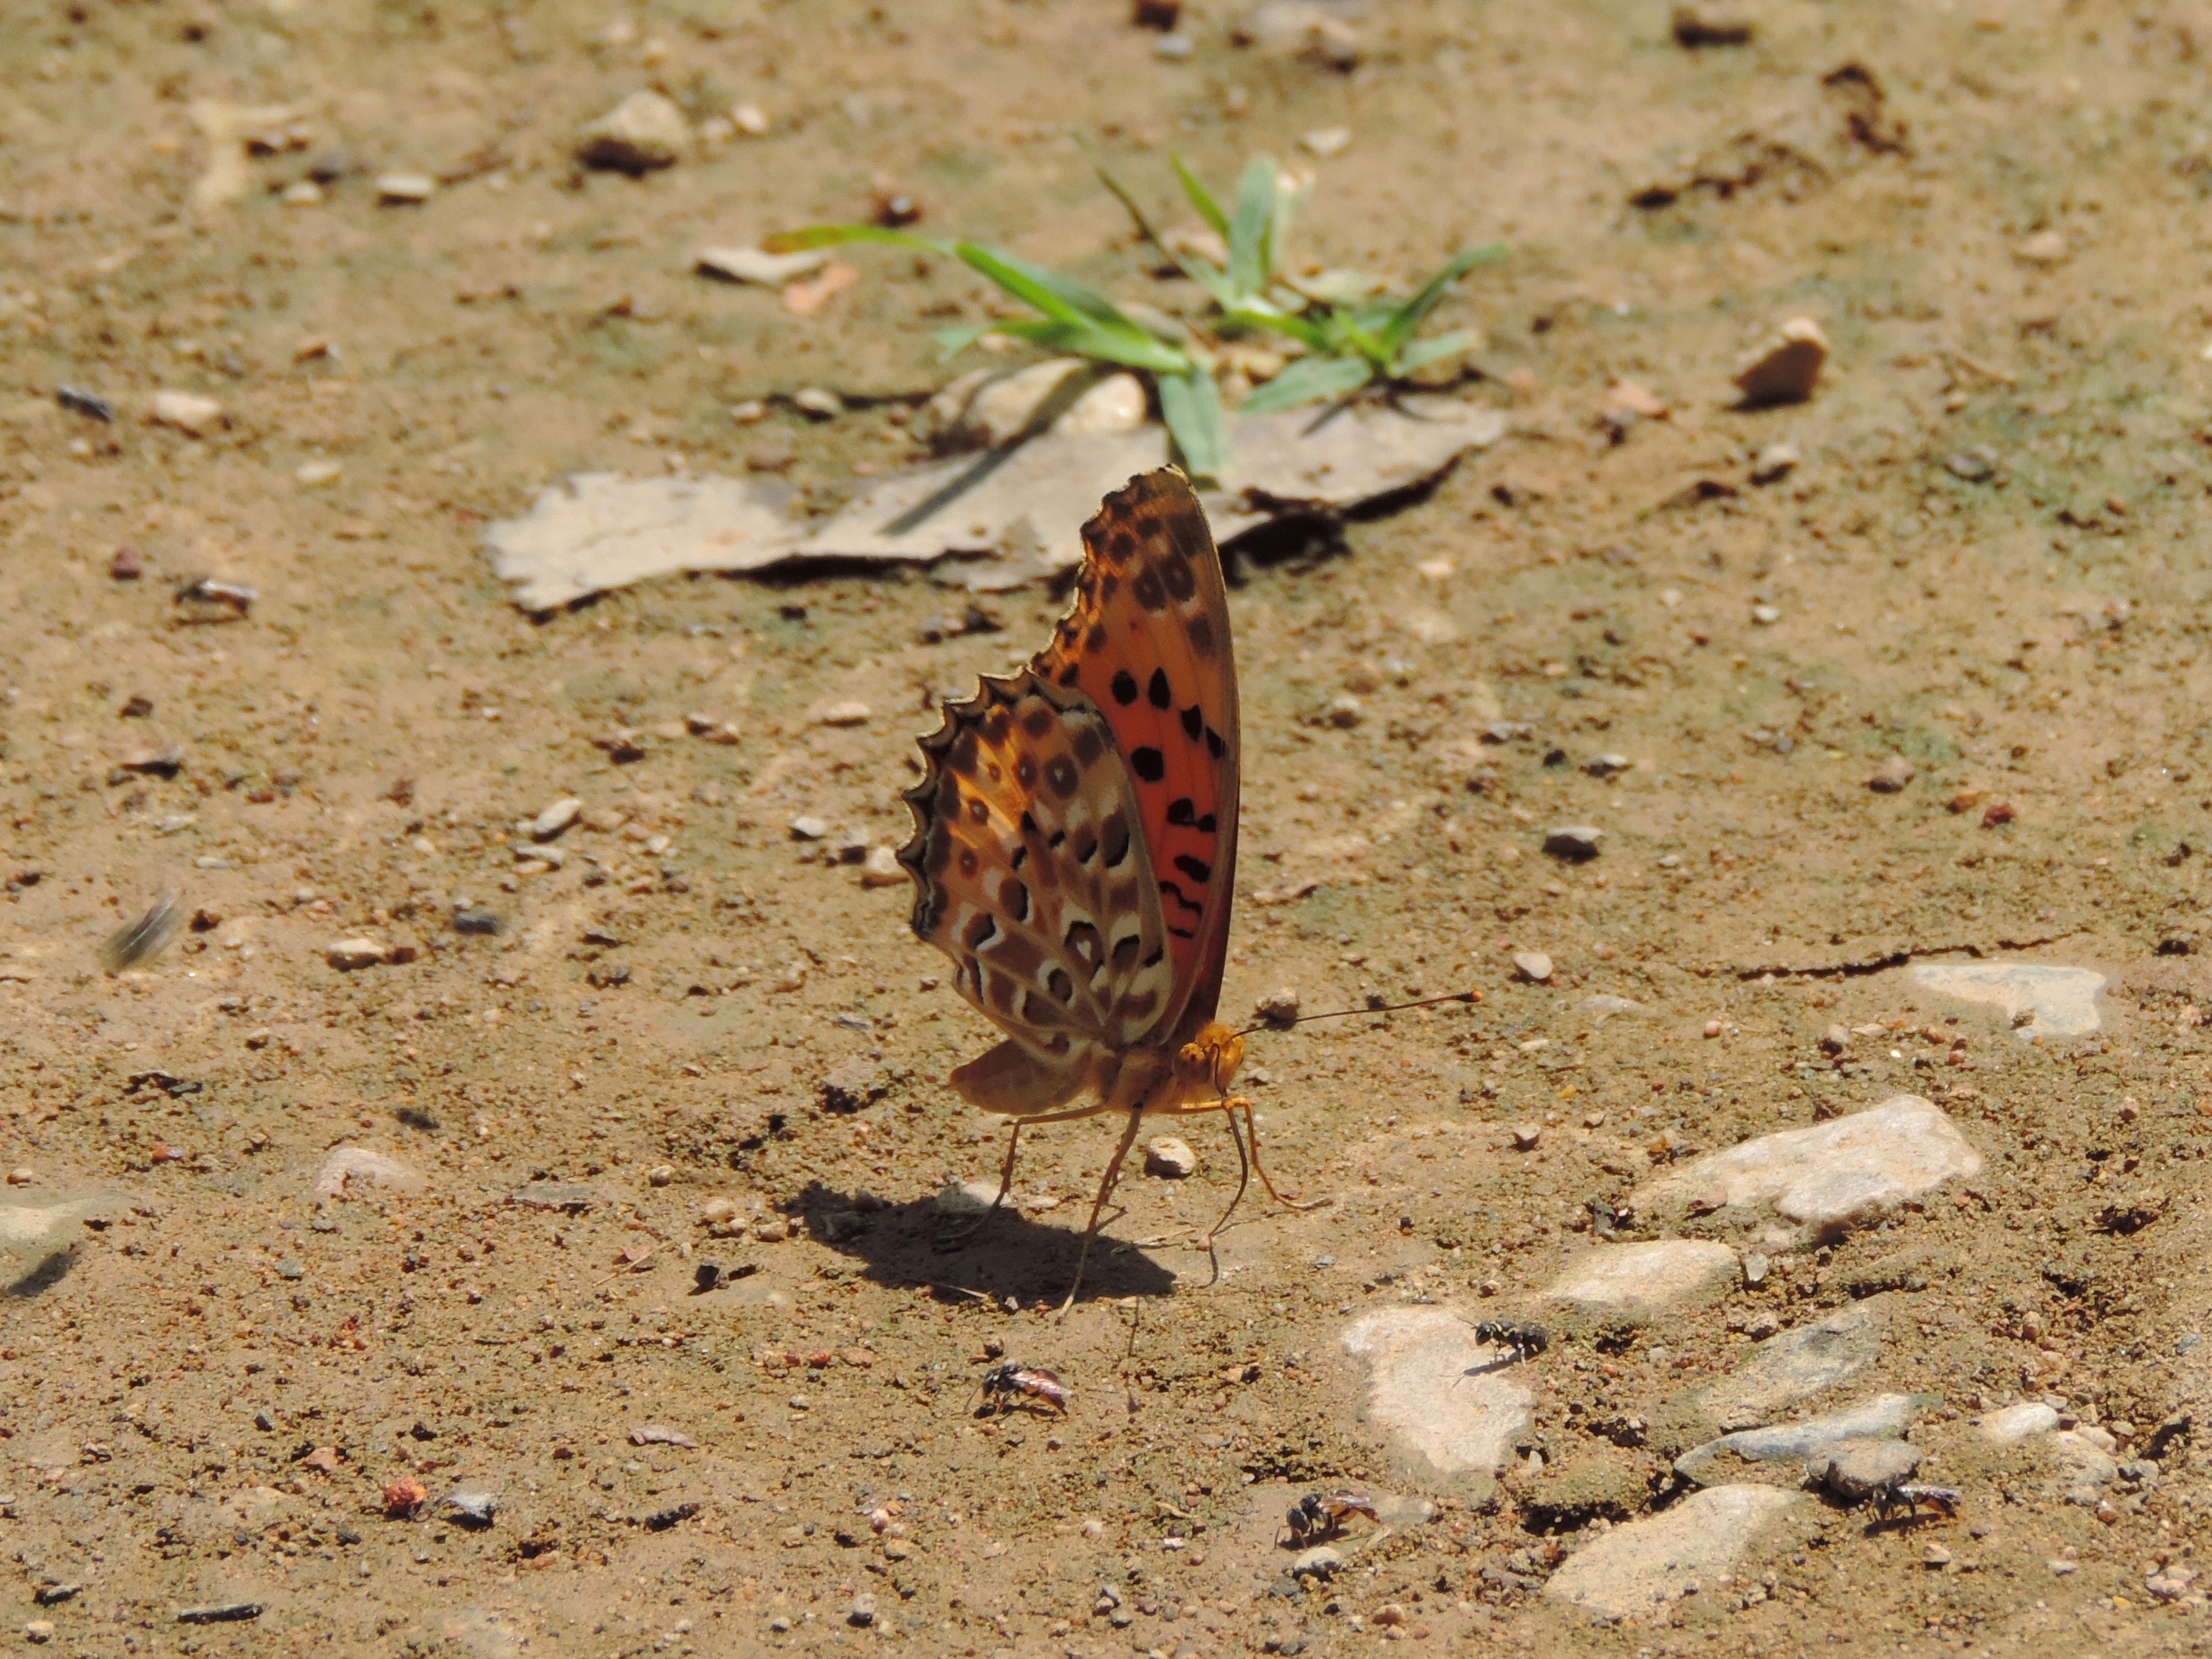Argyreus hyperbius: (876, 430, 1329, 1335)
butterfly: (874, 429, 1327, 1333)
